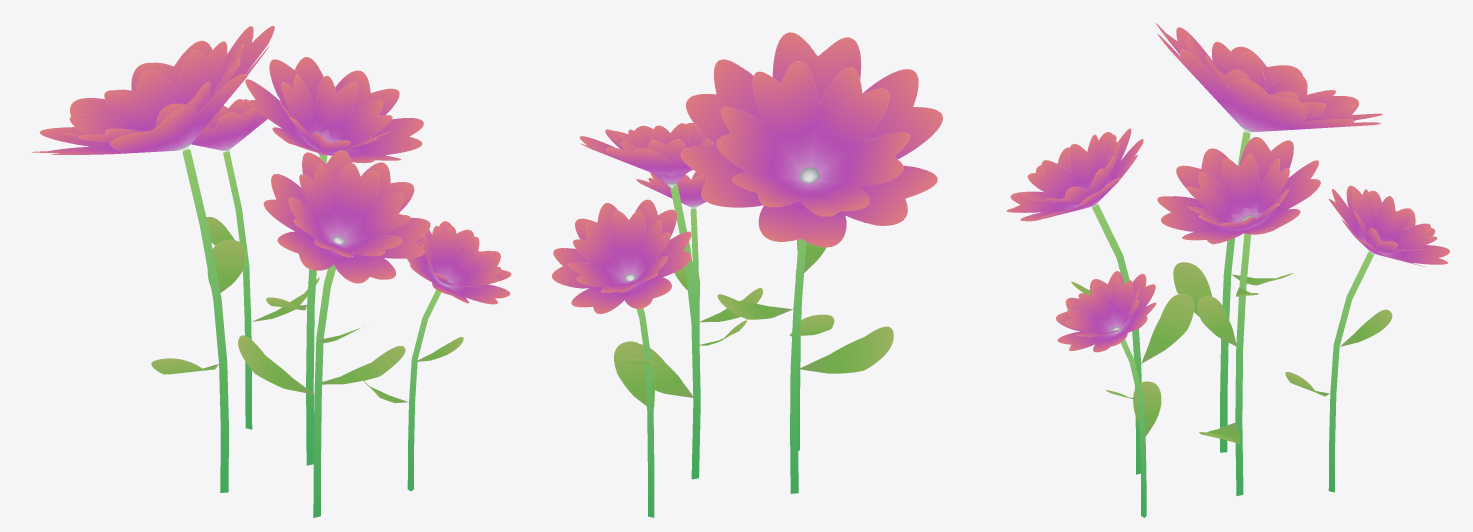
File: SM_Env_Flower_A1_1.fbx
3 renders of one model, left to right at view 1: azimuth 30°, elevation 25°; view 2: azimuth 150°, elevation 25°; view 3: azimuth 270°, elevation 25°, orthographic. The views are drawn at different scales.
Visible parts, largest first — view 1: Env_Flower_A1_1; view 2: Env_Flower_A1_1; view 3: Env_Flower_A1_1.
Boxes of the visible parts, left/top/right/bottom form: Env_Flower_A1_1: left=31, top=25, right=511, bottom=517; Env_Flower_A1_1: left=552, top=32, right=942, bottom=517; Env_Flower_A1_1: left=1006, top=23, right=1449, bottom=517.
Size of the model in its own units: 4.95 by 5.52 by 5.45.
